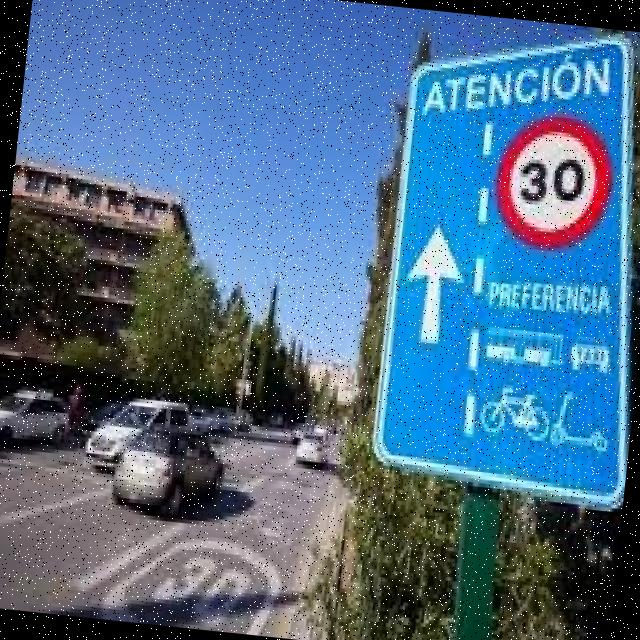speed_limit_30: (489, 108, 627, 267)
